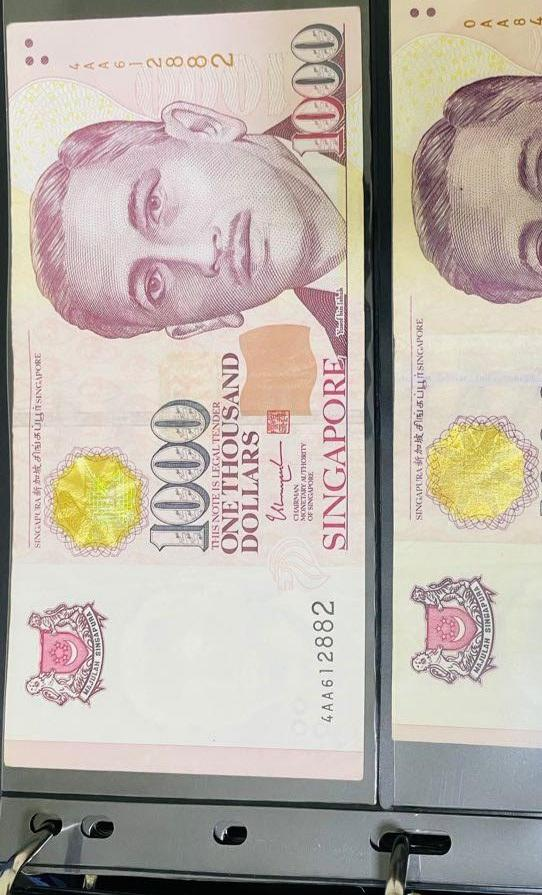1000SingaporeDollar: (15, 25, 360, 763)
